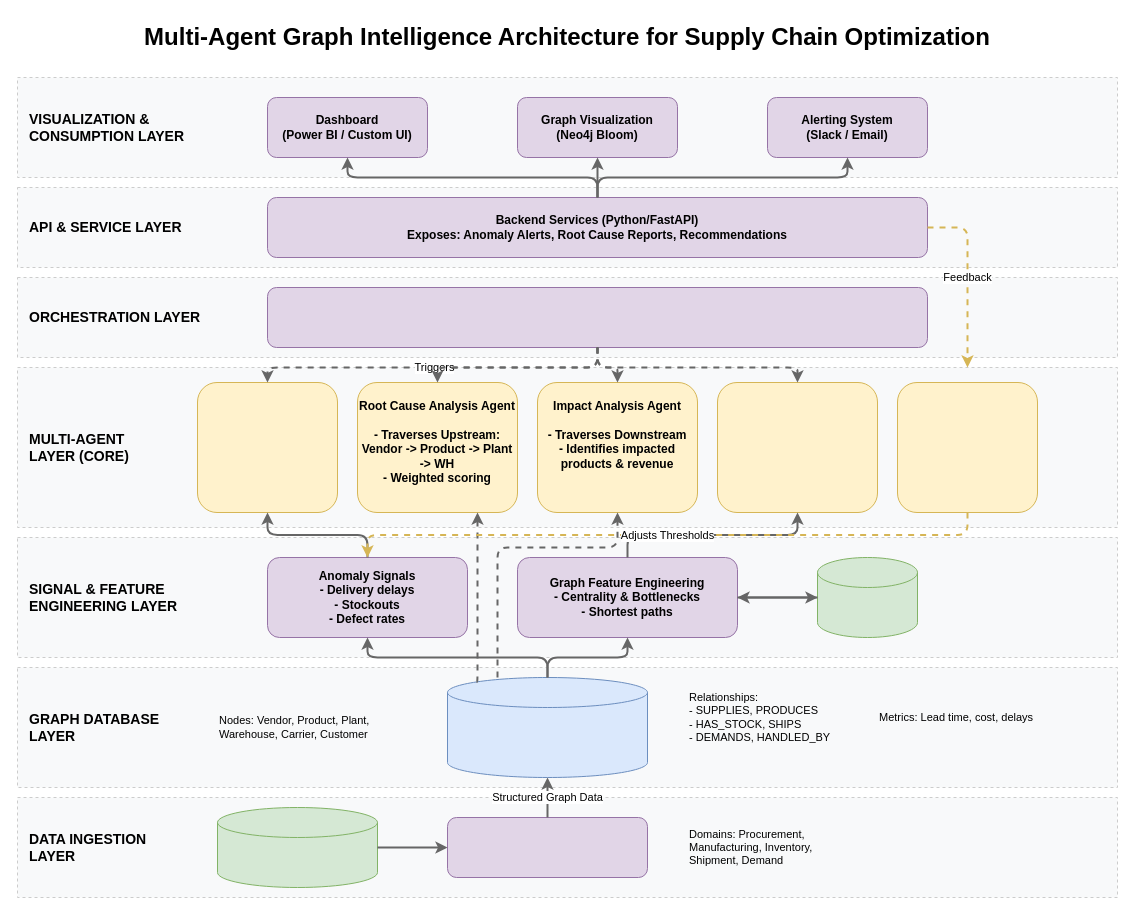
Some shapes in this 1135 by 915 pixel diagram are drawn without their labels. Here are the shapes that lost their labels. From the top down, the centre of each, then its label:
(x=597, y=317): Airflow Pipeline Orchestration & Event Triggers
(x=267, y=447): Anomaly Detection Agent - Monitors graph - Detects thresholds/trends
(x=797, y=447): Recommendation Agent - Suggests alternate vendors & routes - Graph + heuristics
(x=967, y=447): Learning Agent - Tracks effectiveness - Adjusts thresholds
(x=867, y=597): Feature Store
(x=547, y=727): Neo4j Knowledge Graph (Indexing & Constraints)
(x=297, y=847): Databricks Delta Tables (Fact & Dimension)
(x=547, y=847): Transformation Batch + Incremental (Star Schema to Graph)
